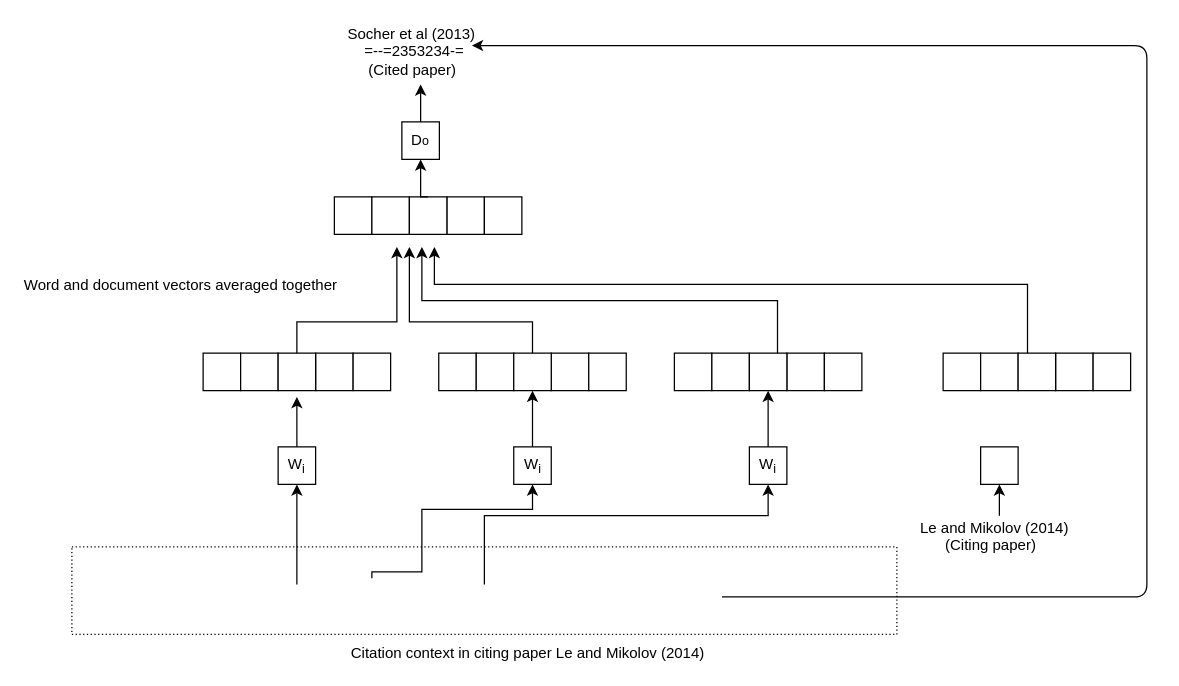
The diagram is 1179 pixels wide and 686 high, and some of its shapes have lost their labels. Each missing label, with the box of its shape:
.We follow the experimental protocols as described in =--=2353234-=-: (71, 546, 897, 634)
D i: (979, 446, 1018, 484)
